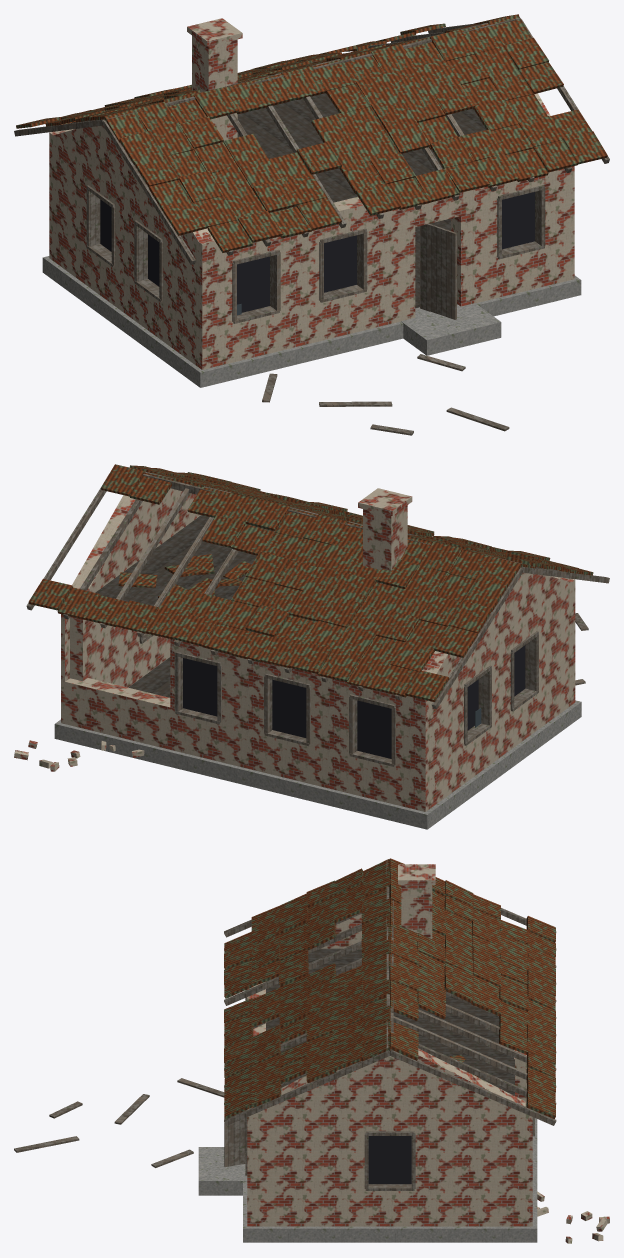
File: house_brick.glb
3 renders of one model, top to bottom at view 1: azimuth 30°, elevation 25°; view 2: azimuth 150°, elevation 25°; view 3: azimuth 270°, elevation 25°, orthographic. The views are drawn at different scales.
Parts seen in each view (by area): view 1: house_brick; view 2: house_brick; view 3: house_brick.
Part boxes in pixels (bbox=[...]): house_brick: bbox=[14, 14, 609, 435]; house_brick: bbox=[14, 464, 609, 829]; house_brick: bbox=[14, 858, 609, 1243].
Bounding box in the file's own units: 10.1 × 6.09 × 13.37.
Materials: 7 (5 with a texture image).
